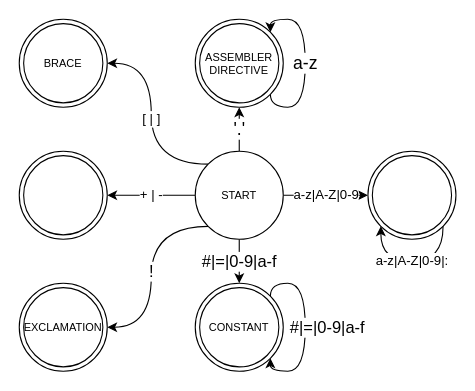
Image size: 475x391. Some labels were removed from this diagram. The shapes that lost their labels are listed below. From the top down, each one's centre as x and y in pixels, then its label:
[62,194]: SIGN
[411,194]: INSTR LABEL REG
